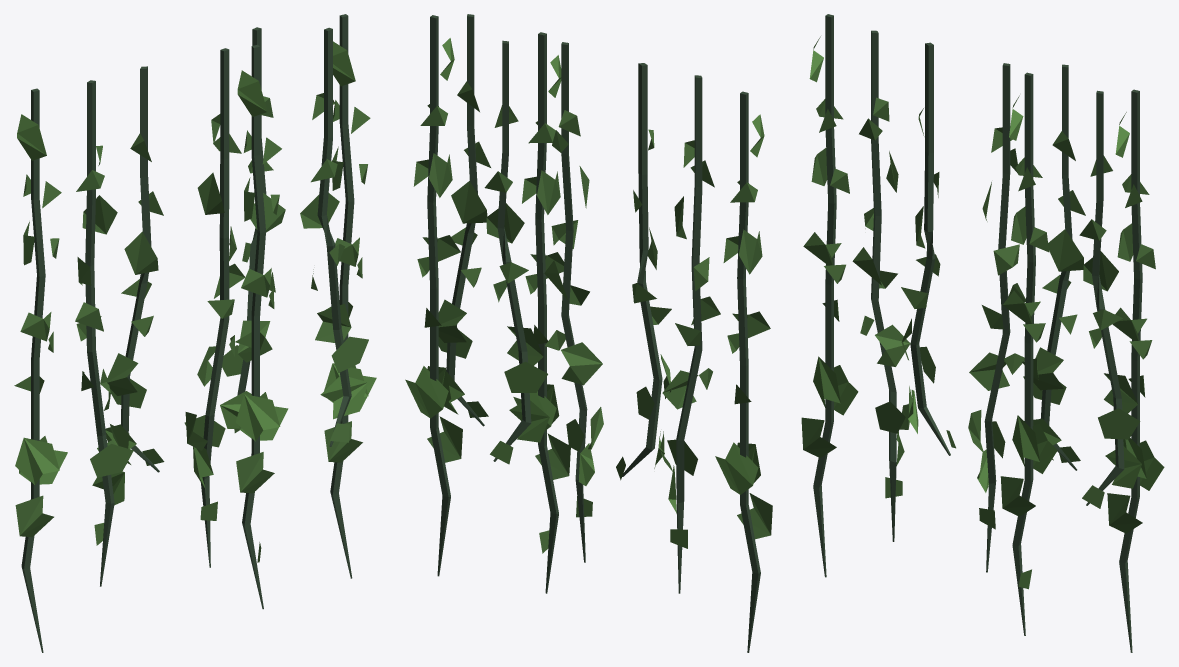
Rendered from SM_Env_Tree_Vines_04.glb.
3 views of the same model, side by side, from view 1: azimuth 30°, elevation 25°; view 2: azimuth 150°, elevation 25°; view 3: azimuth 330°, elevation 25° (orthographic).
Visible parts, largest first — view 1: SM_Env_Tree_Vines_04_part00; view 2: SM_Env_Tree_Vines_04_part00; view 3: SM_Env_Tree_Vines_04_part00.
Boxes of the visible parts, <box> form: SM_Env_Tree_Vines_04_part00: <box>14,14,376,652</box>; SM_Env_Tree_Vines_04_part00: <box>405,14,772,652</box>; SM_Env_Tree_Vines_04_part00: <box>801,14,1164,652</box>.
Size of the model in its own units: 2.07 by 3.05 by 0.4312.
1 material, 1 textured.
